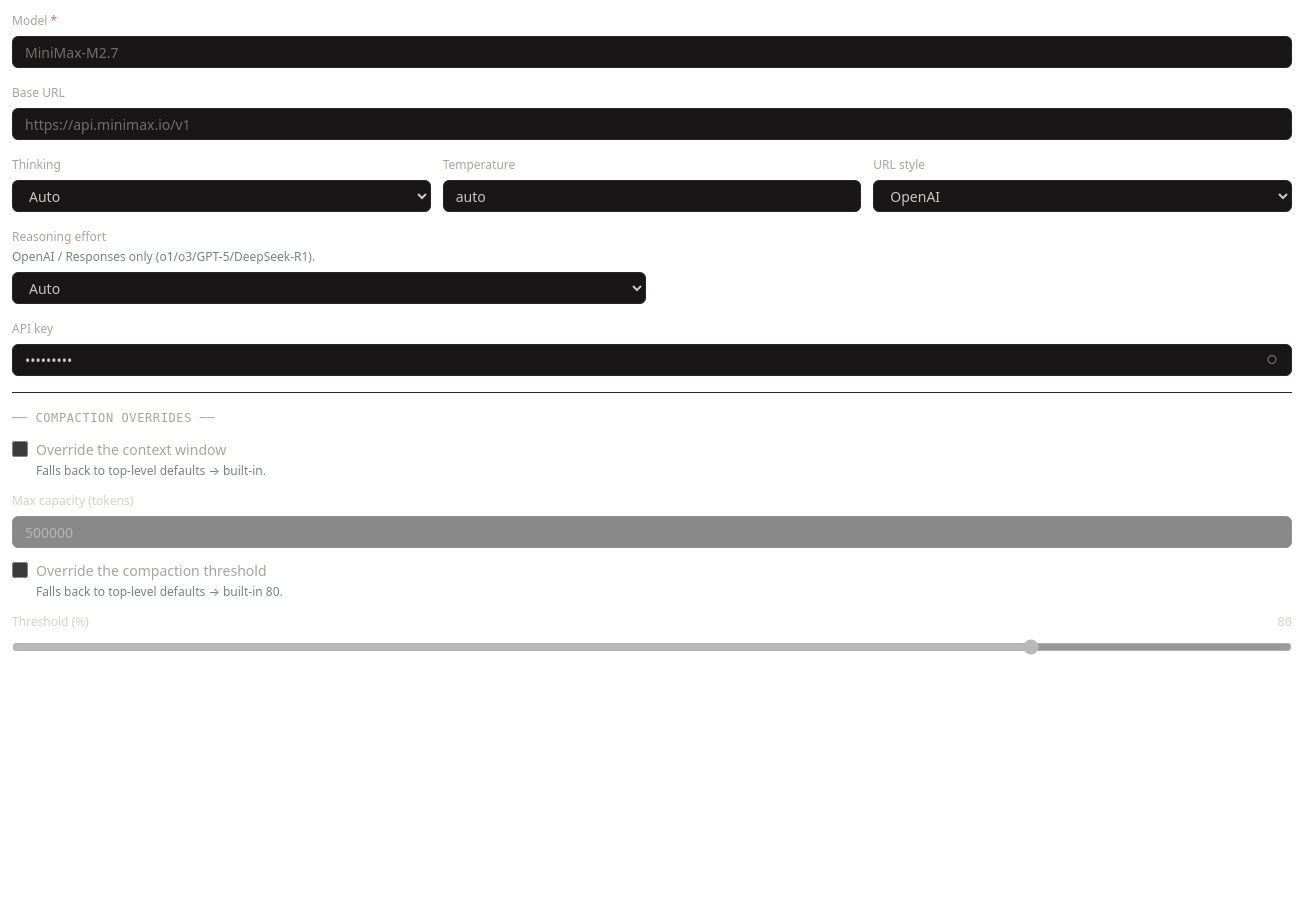
Test: LlmConfigForm › toggles the API key to type=text when the show button is clicked
The image size is (1304, 912).
Step 1. Click the button with test id "api-key-toggle" → [1272, 360], box x1=1260 y1=348 x2=1284 y2=372
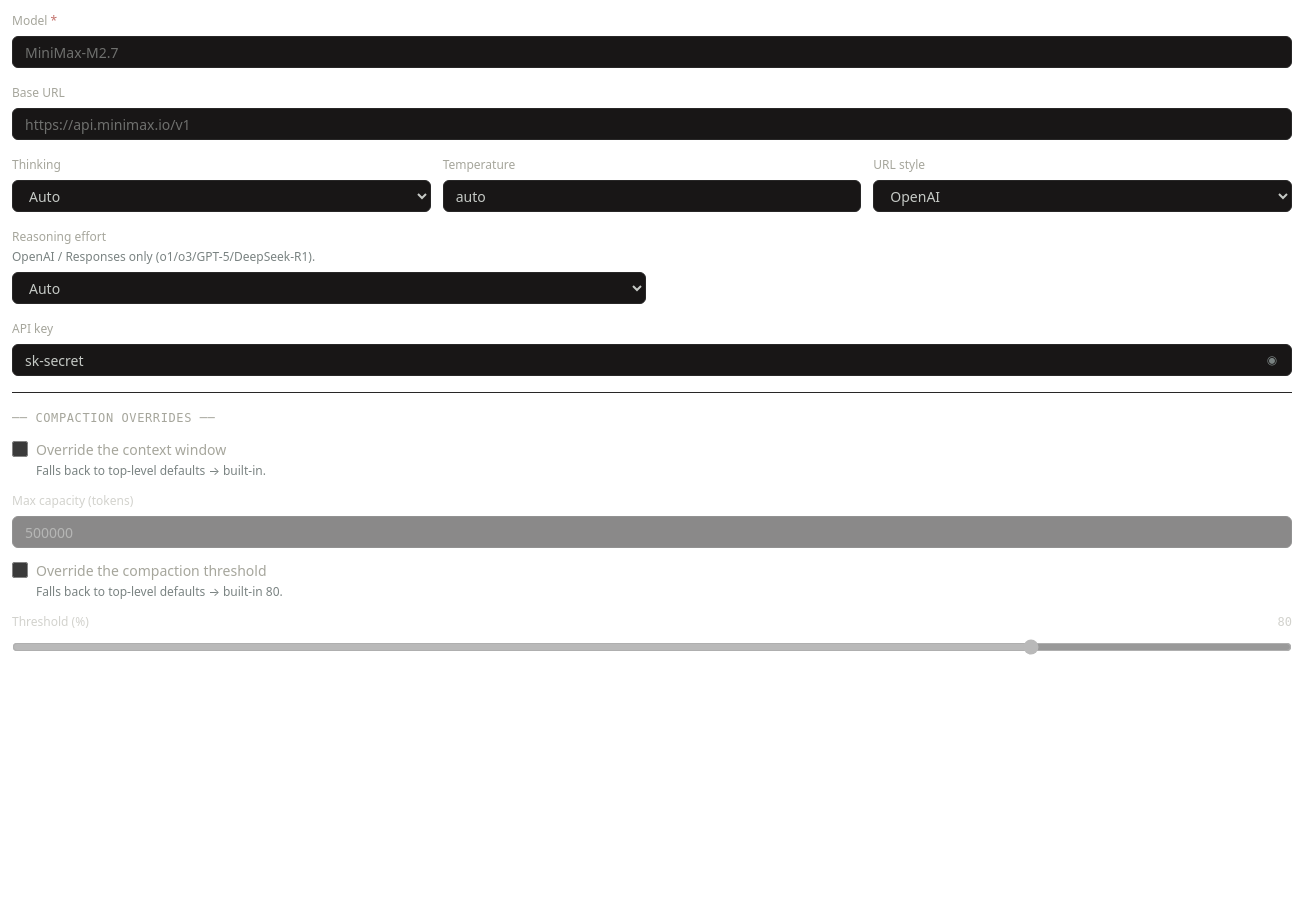
expect the field with test id "api-key-input" shows its text: met, box x1=12 y1=344 x2=1292 y2=376
Step 2. Click the button with test id "api-key-toggle" → [1272, 360], box x1=1260 y1=348 x2=1284 y2=372
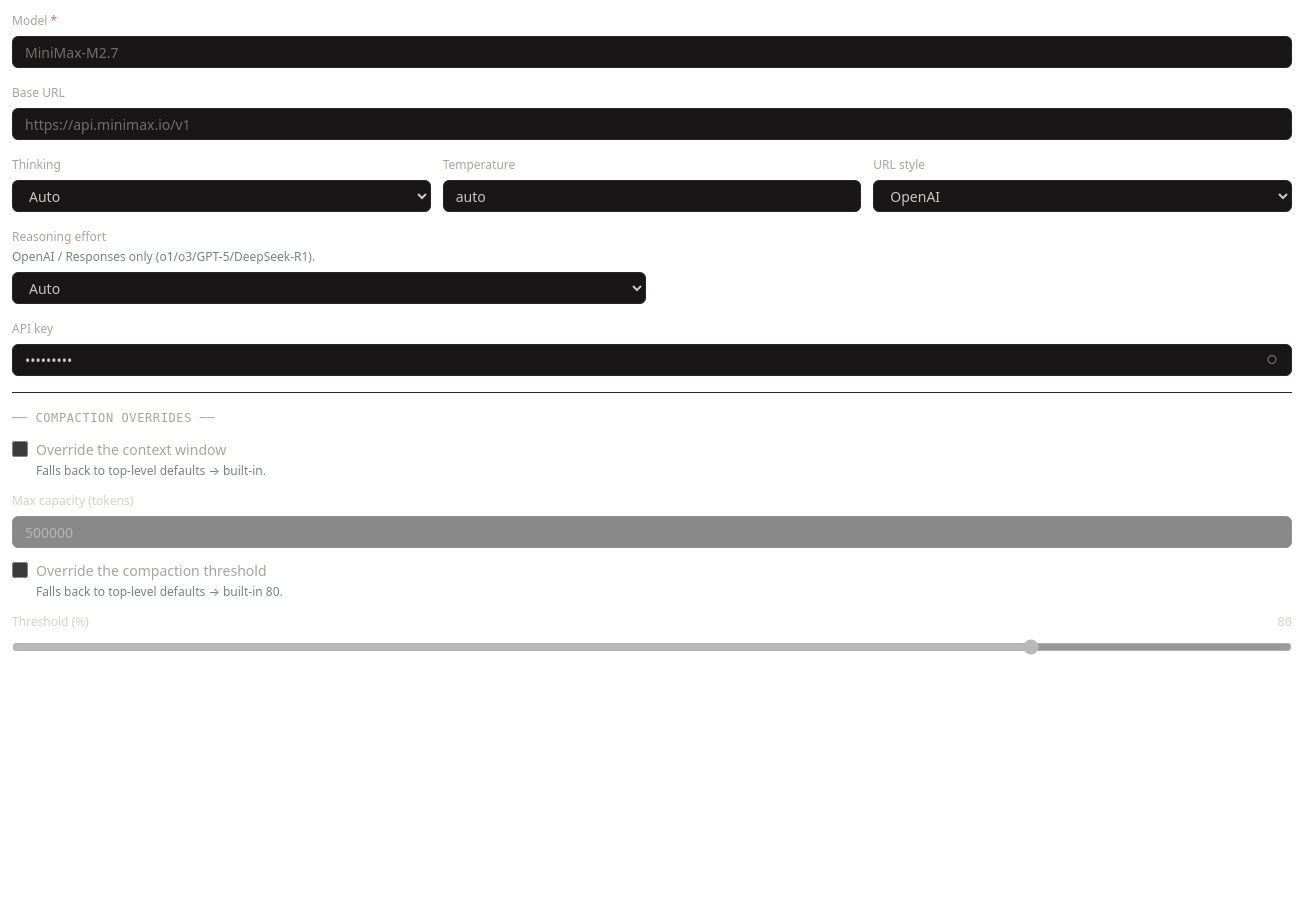
expect the password field with test id "api-key-input" hides its text: met, box x1=12 y1=344 x2=1292 y2=376
